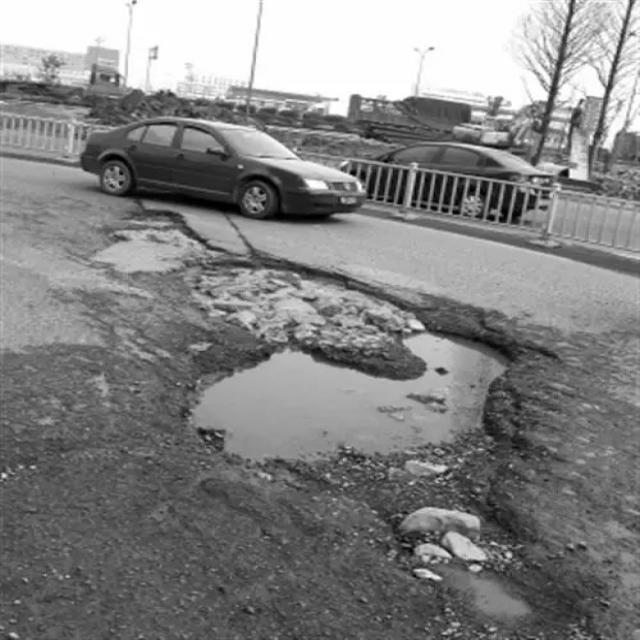Pothole: (189, 272, 599, 620), (84, 210, 208, 280)
